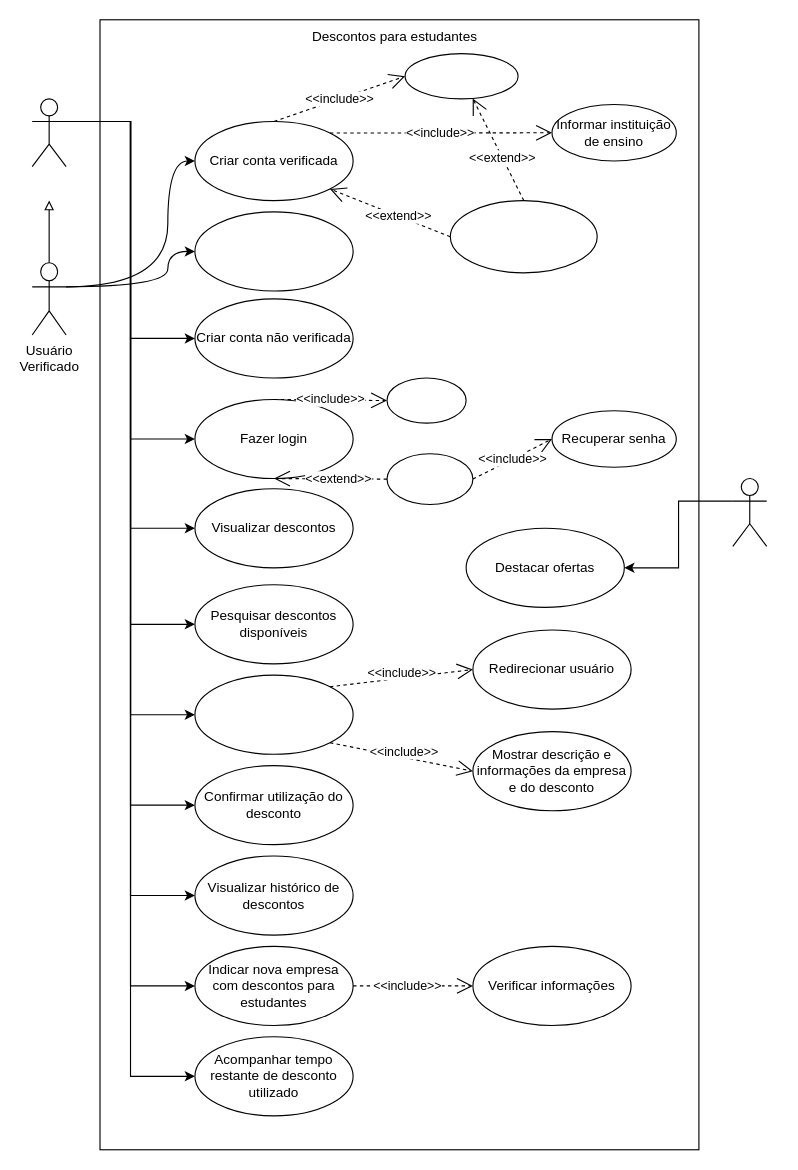
Some shapes in this 798 by 1170 pixel diagram are drawn without their labels. The shapes that lost their labels are listed below. From the top down, each one's centre as x and y in pixels, then its label:
the point at 461,76: Verificar email institucional
the point at 48,132: Usuário
the point at 273,251: Visualizar descontos especiais
the point at 523,236: Requisitar envio do comprovante de matrícula
the point at 426,400: Verificar senha
the point at 429,479: Mostrar erro login
the point at 749,511: Empresa parceira
the point at 273,714: Selecionar desconto
